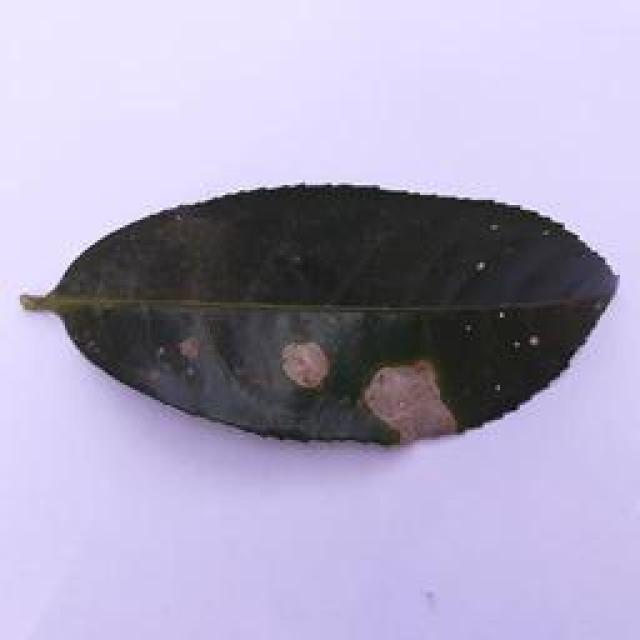Gray Blight: (18, 182, 618, 450)
